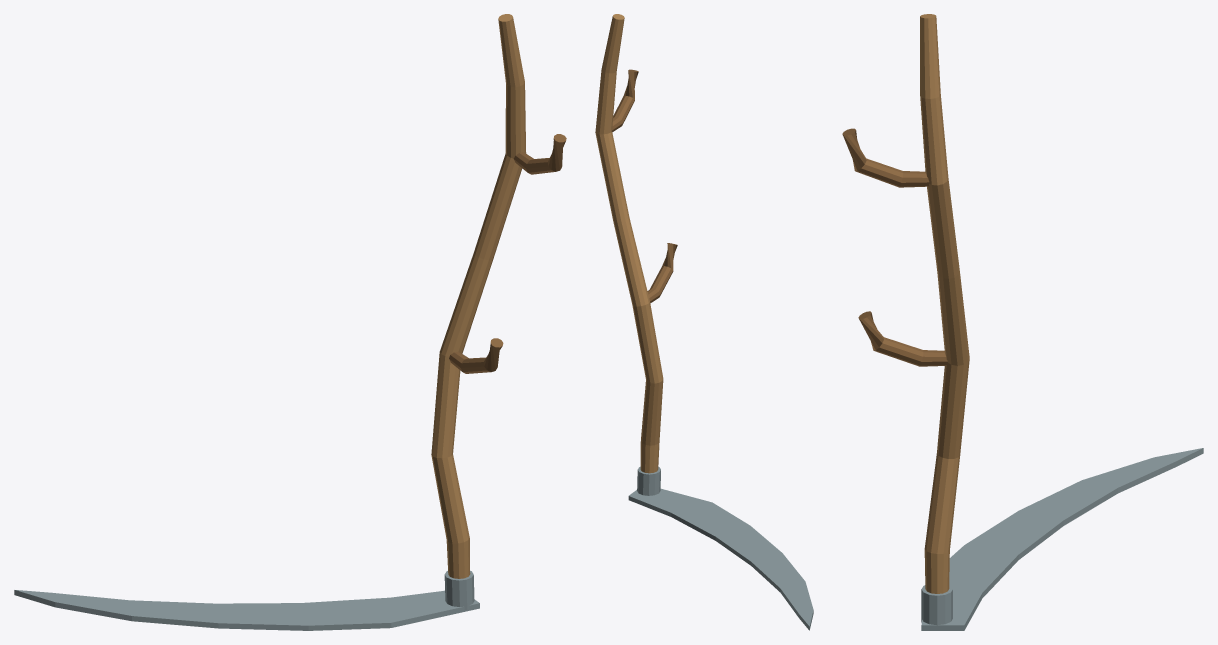
3 renders of one model, left to right at view 1: azimuth 30°, elevation 25°; view 2: azimuth 150°, elevation 25°; view 3: azimuth 270°, elevation 25°, orthographic. The views are drawn at different scales.
Parts seen in each view (by area): view 1: WholeContinuouslyBentWoodenSnath, WholeBroadSweptBluntScytheBlade, WholeCrankedOffsetGrip2, WholeCrankedOffsetGrip1, WholeAnnularLowerSnathCollar; view 2: WholeContinuouslyBentWoodenSnath, WholeBroadSweptBluntScytheBlade, WholeCrankedOffsetGrip1, WholeCrankedOffsetGrip2, WholeAnnularLowerSnathCollar; view 3: WholeContinuouslyBentWoodenSnath, WholeBroadSweptBluntScytheBlade, WholeCrankedOffsetGrip2, WholeCrankedOffsetGrip1, WholeAnnularLowerSnathCollar.
Part boxes in pixels (bbox=[...]): WholeContinuouslyBentWoodenSnath: bbox=[431, 14, 526, 578]; WholeBroadSweptBluntScytheBlade: bbox=[14, 590, 479, 630]; WholeCrankedOffsetGrip2: bbox=[513, 134, 566, 174]; WholeCrankedOffsetGrip1: bbox=[449, 338, 503, 373]; WholeAnnularLowerSnathCollar: bbox=[444, 570, 474, 610]; WholeContinuouslyBentWoodenSnath: bbox=[595, 14, 663, 473]; WholeBroadSweptBluntScytheBlade: bbox=[628, 488, 813, 630]; WholeCrankedOffsetGrip1: bbox=[647, 243, 677, 303]; WholeCrankedOffsetGrip2: bbox=[612, 69, 638, 132]; WholeAnnularLowerSnathCollar: bbox=[637, 466, 660, 495]; WholeContinuouslyBentWoodenSnath: bbox=[920, 14, 969, 593]; WholeBroadSweptBluntScytheBlade: bbox=[921, 448, 1203, 630]; WholeCrankedOffsetGrip2: bbox=[842, 128, 929, 187]; WholeCrankedOffsetGrip1: bbox=[858, 311, 947, 366]; WholeAnnularLowerSnathCollar: bbox=[921, 585, 952, 625].
Bounding box in the file's own units: 1.08 × 1.54 × 0.8003.
